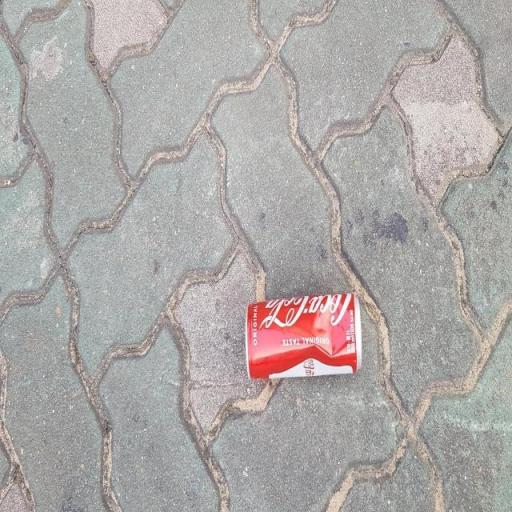metal: (240, 286, 368, 399)
